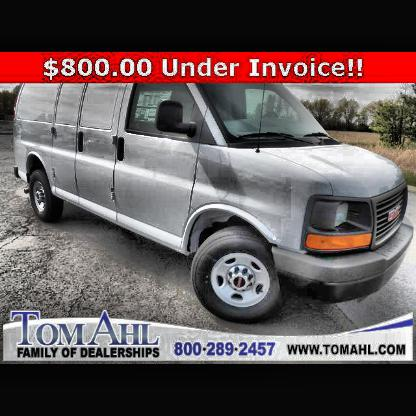GMC Savana Van 2012: (11, 83, 416, 326)
